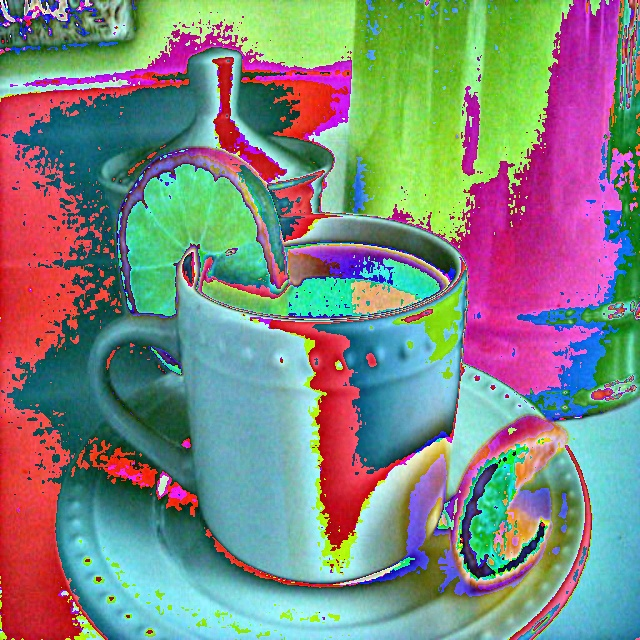background: (129, 180, 568, 591), (114, 144, 448, 319)
